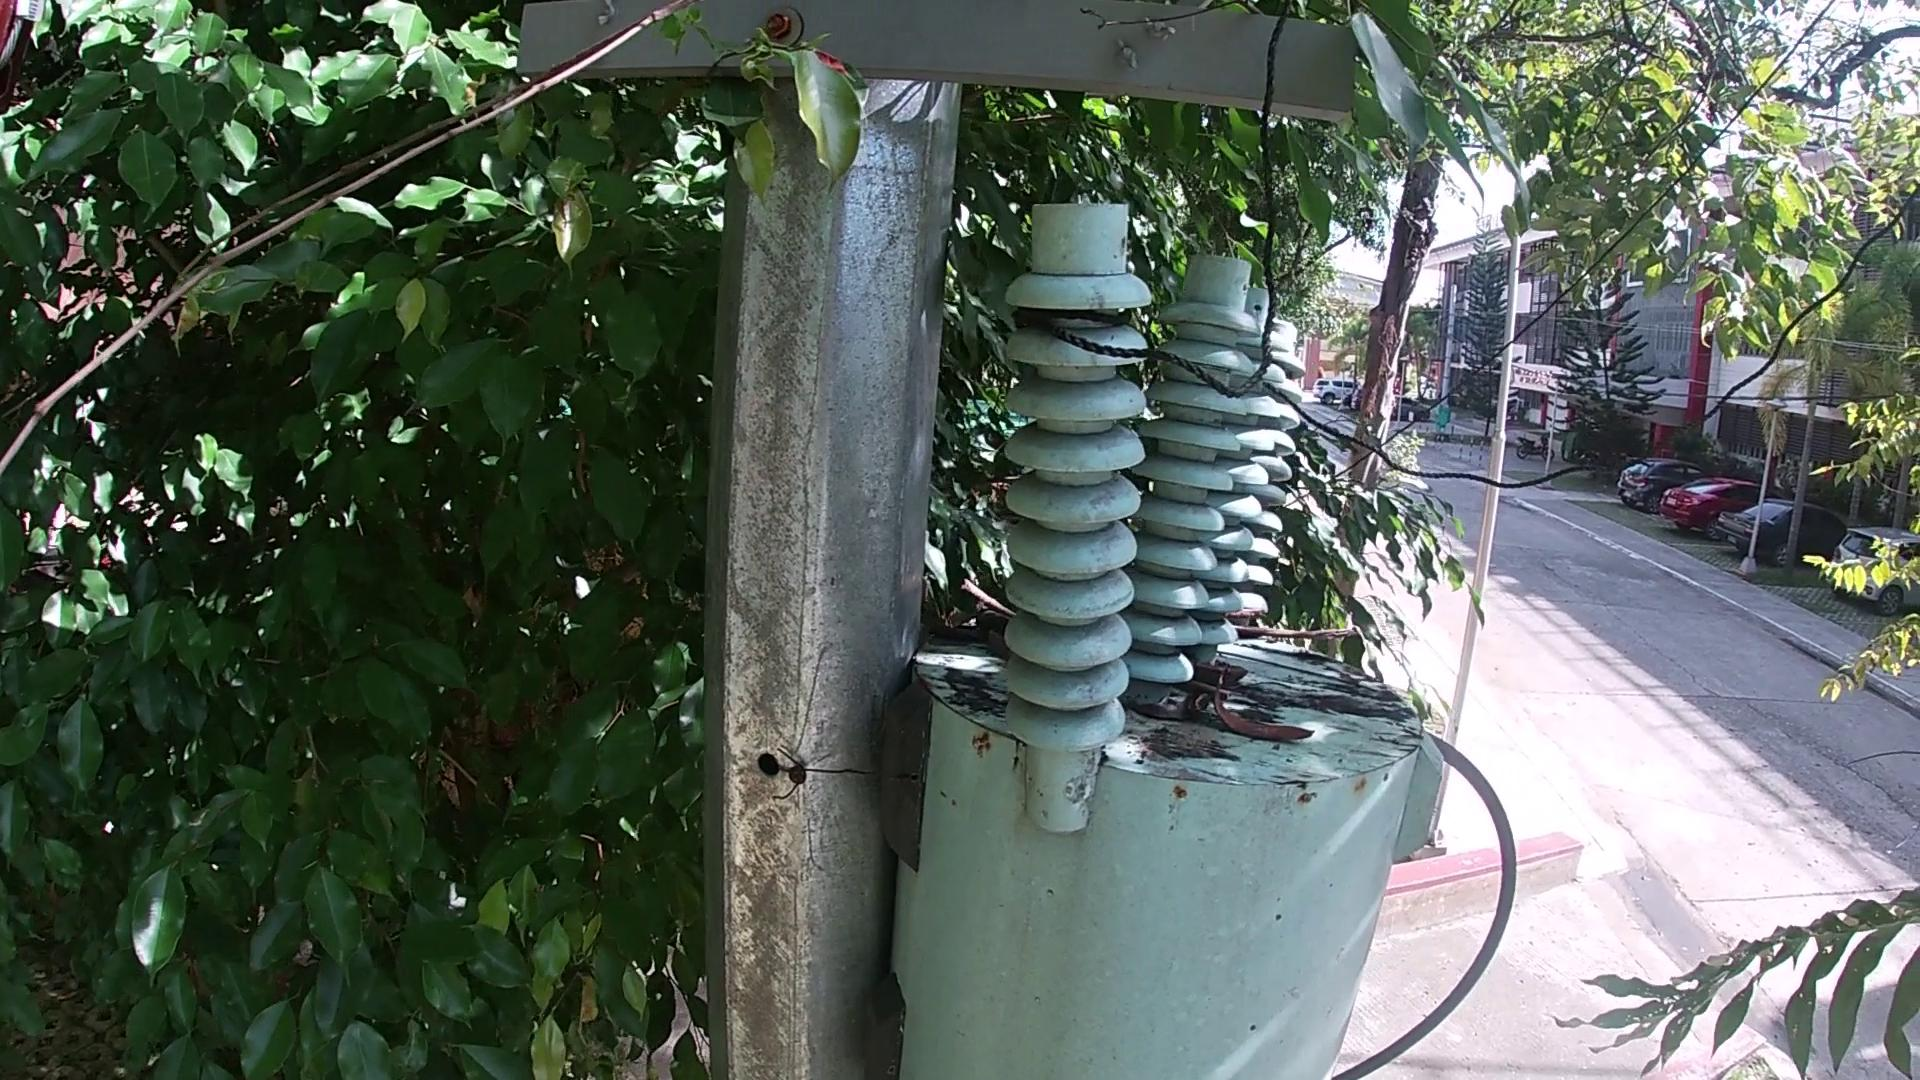leaf: (1130, 698, 1185, 723)
mahogany fruit: (1215, 700, 1309, 746), (1189, 655, 1259, 687)
tree branch: (1, 4, 692, 477), (1092, 1, 1299, 65), (1233, 649, 1371, 688), (957, 578, 1010, 651), (1240, 622, 1371, 642), (972, 612, 1017, 651)
